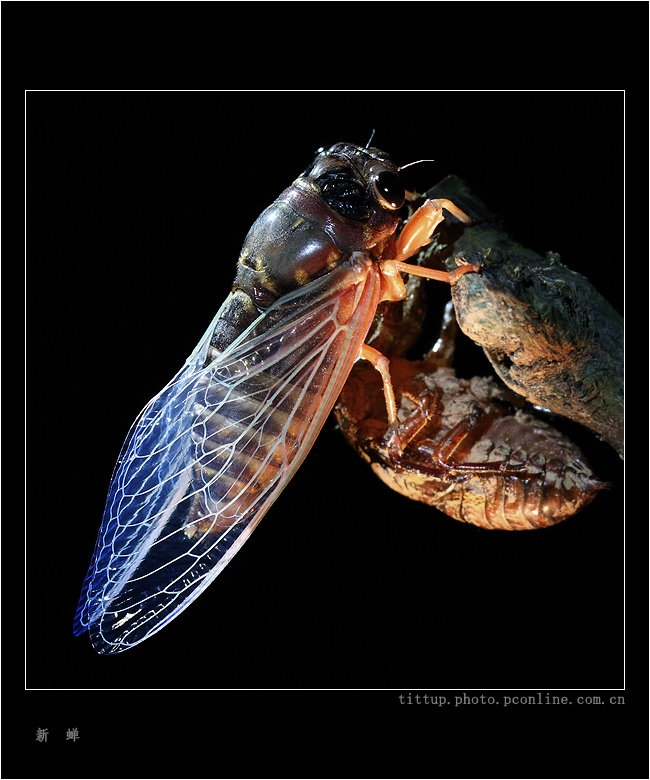chan: (58, 117, 406, 650)
